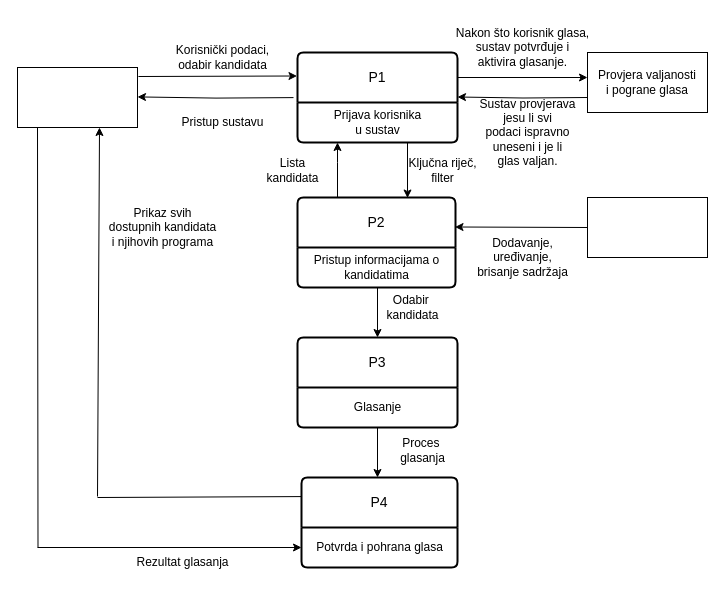
The diagram is 725 pixels wide and 594 high, and some of its shapes have lost their labels. The box of each missing label's shape, as (x1, y1, x2, y2) in pixels:
Administrator: (586, 196, 708, 258)
Korisnik: (16, 66, 138, 128)
